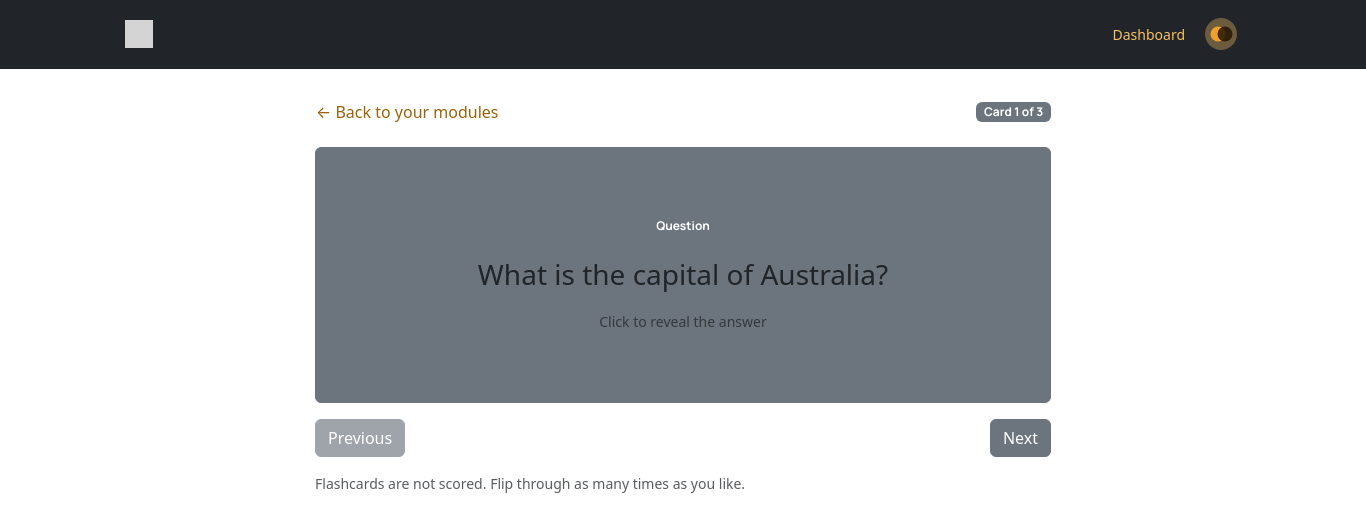
flashcard page › reveals the answer when the card is flipped
This screenshot has width=1366, height=510.
Step 1. Click the button "Click to reveal" → (683, 275), box [315, 147, 1051, 403]
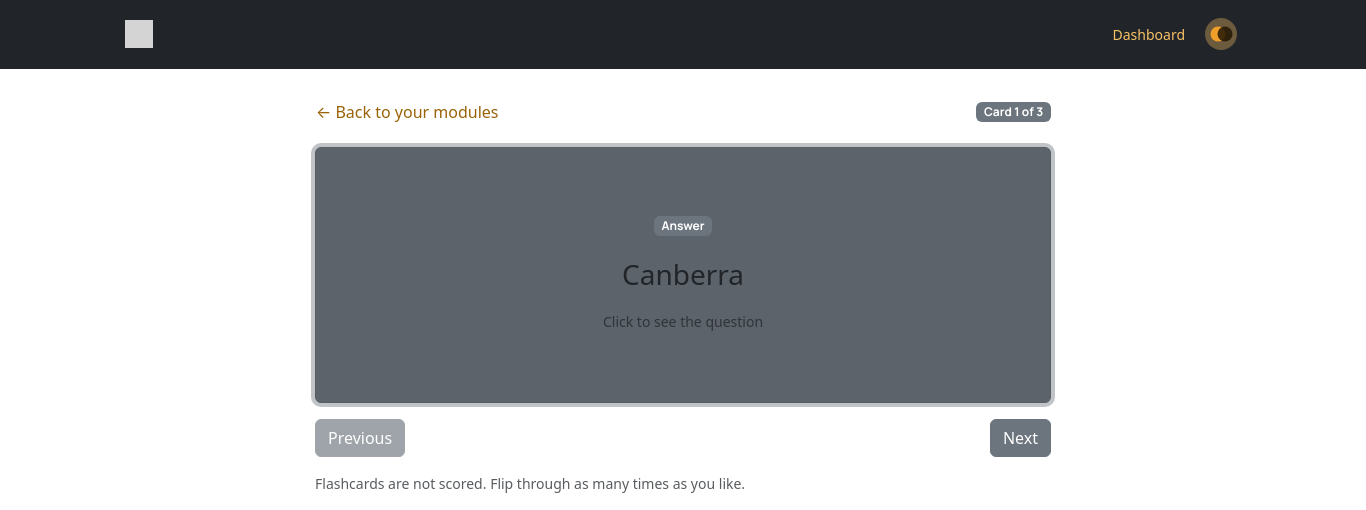
Result: the text "Canberra" is shown at [622, 254, 744, 296]
Result: the button "What is the capital of Australia?" is gone
